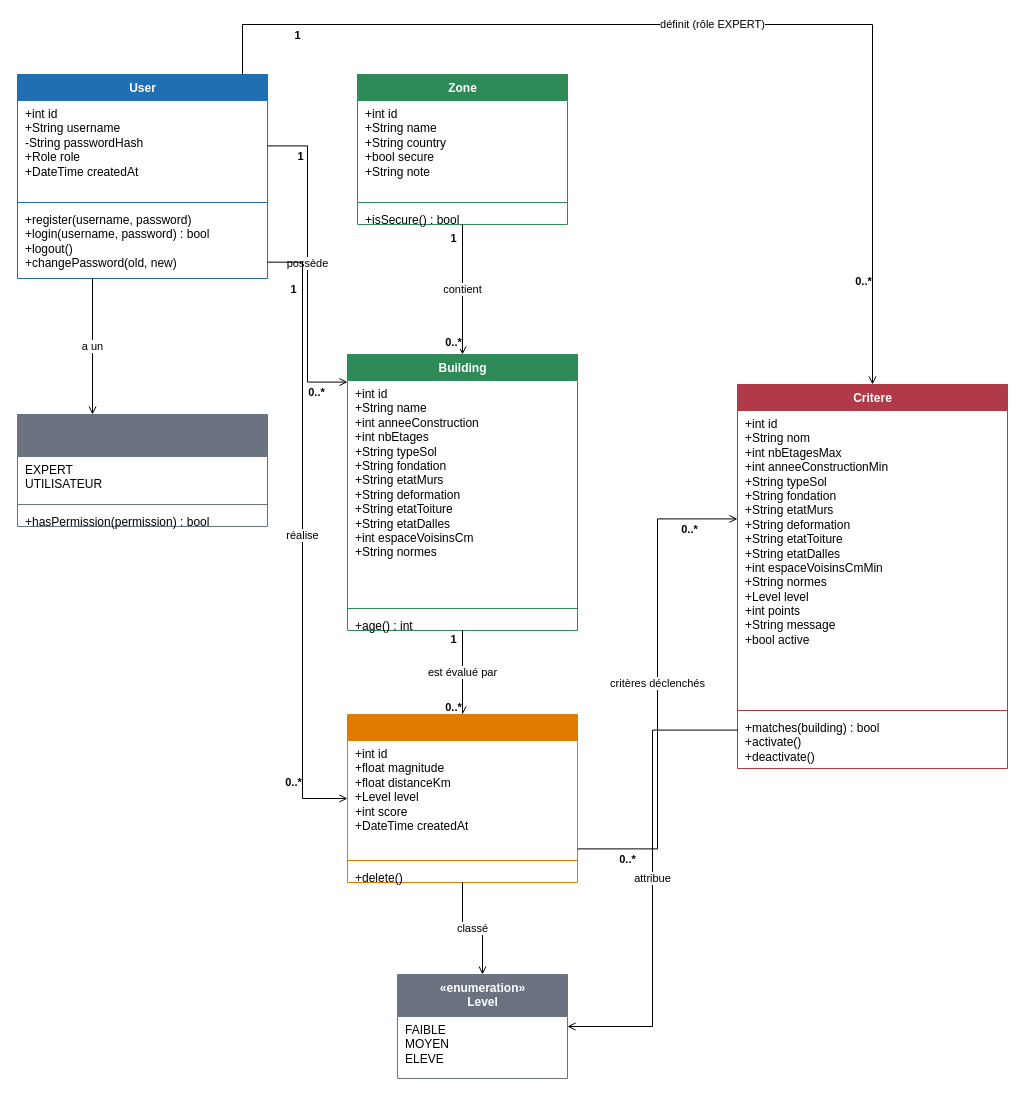
Some shapes in this 1025 by 1099 pixel diagram are drawn without their labels. Each missing label, with the box of its shape:
Evaluation: (346, 714, 578, 882)
«enumeration» Role: (16, 414, 268, 526)
